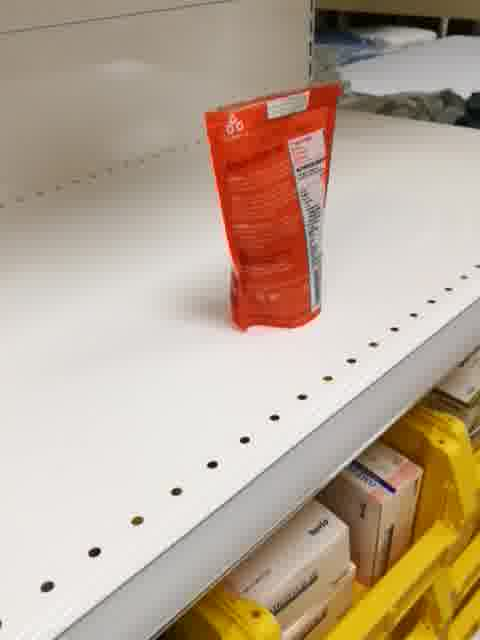whitechia: (201, 80, 346, 334)
